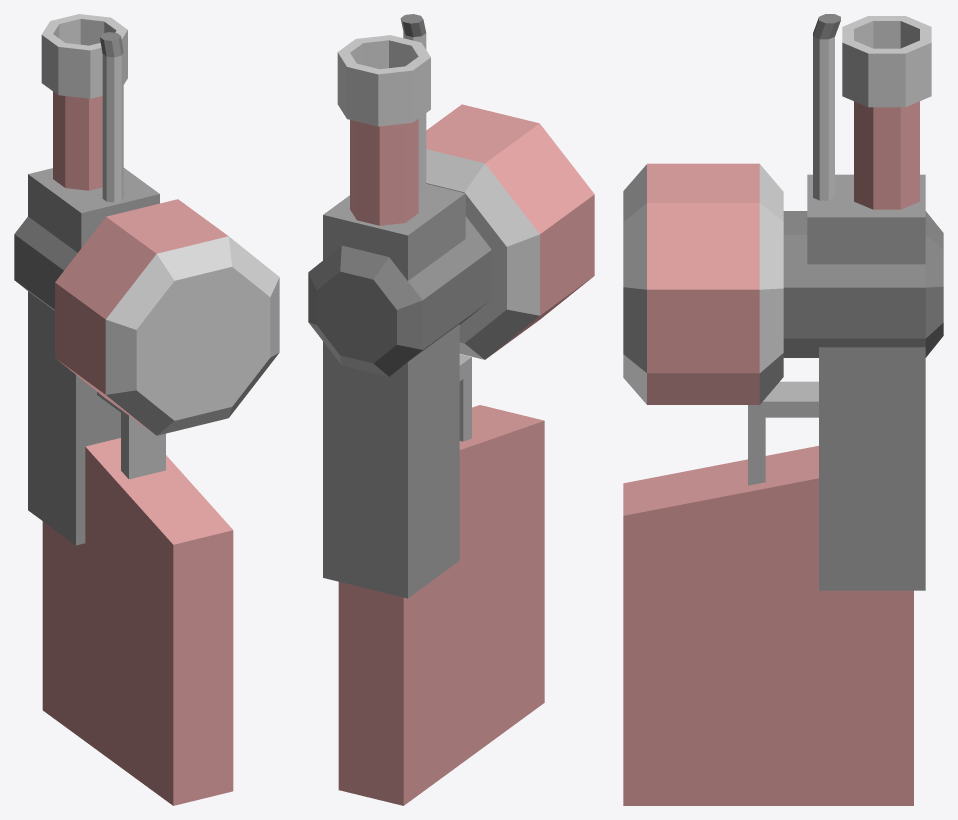
The model's file is flamethrower.fbx.
3 views of the same model, side by side, from view 1: azimuth 30°, elevation 25°; view 2: azimuth 150°, elevation 25°; view 3: azimuth 270°, elevation 25° (orthographic). The views are drawn at different scales.
Visible parts, largest first — view 1: imagetostl_mesh144, imagetostl_mesh142, imagetostl_mesh164, imagetostl_mesh24, imagetostl_mesh169, imagetostl_mesh166, imagetostl_mesh187, imagetostl_mesh154, imagetostl_mesh135, imagetostl_mesh76, imagetostl_mesh165, imagetostl_mesh188 (+29 smaller); view 2: imagetostl_mesh144, imagetostl_mesh25, imagetostl_mesh140, imagetostl_mesh24, imagetostl_mesh169, imagetostl_mesh46, imagetostl_mesh166, imagetostl_mesh187, imagetostl_mesh2, imagetostl_mesh168, imagetostl_mesh74, imagetostl_mesh135 (+24 smaller); view 3: imagetostl_mesh141, imagetostl_mesh138, imagetostl_mesh190, imagetostl_mesh172, imagetostl_mesh30, imagetostl_mesh50, imagetostl_mesh187, imagetostl_mesh29, imagetostl_mesh206, imagetostl_mesh71, imagetostl_mesh154, imagetostl_mesh157 (+26 smaller).
Boxes of the visible parts, box(x1,y1,x2,y2) form: imagetostl_mesh144: box(42, 447, 173, 805); imagetostl_mesh142: box(173, 530, 233, 805); imagetostl_mesh164: box(136, 267, 270, 420); imagetostl_mesh24: box(28, 291, 75, 544); imagetostl_mesh169: box(55, 217, 156, 319); imagetostl_mesh166: box(55, 282, 105, 394); imagetostl_mesh187: box(106, 199, 228, 253); imagetostl_mesh154: box(166, 455, 232, 544); imagetostl_mesh135: box(28, 174, 81, 252); imagetostl_mesh76: box(65, 96, 88, 190); imagetostl_mesh165: box(105, 319, 136, 394); imagetostl_mesh188: box(157, 236, 231, 280); imagetostl_mesh144: box(403, 421, 544, 805); imagetostl_mesh25: box(323, 341, 407, 598); imagetostl_mesh140: box(338, 582, 403, 805); imagetostl_mesh24: box(408, 324, 459, 597); imagetostl_mesh169: box(485, 123, 594, 233); imagetostl_mesh46: box(316, 271, 396, 363); imagetostl_mesh166: box(540, 194, 594, 315); imagetostl_mesh187: box(426, 104, 539, 163); imagetostl_mesh2: box(422, 250, 491, 349); imagetostl_mesh168: box(464, 164, 539, 246); imagetostl_mesh74: box(379, 123, 405, 225); imagetostl_mesh135: box(408, 193, 465, 280); imagetostl_mesh141: box(623, 478, 913, 805); imagetostl_mesh138: box(819, 347, 925, 590); imagetostl_mesh190: box(647, 203, 759, 289); imagetostl_mesh172: box(647, 289, 759, 373); imagetostl_mesh30: box(783, 287, 925, 338); imagetostl_mesh50: box(807, 217, 925, 264); imagetostl_mesh187: box(647, 163, 759, 202); imagetostl_mesh29: box(783, 234, 925, 287); imagetostl_mesh206: box(647, 373, 759, 404); imagetostl_mesh71: box(873, 107, 900, 209); imagetostl_mesh154: box(623, 478, 817, 515); imagetostl_mesh157: box(748, 401, 818, 485).
Bounding box in the file's own units: 2.26 × 8.61 × 3.24.
